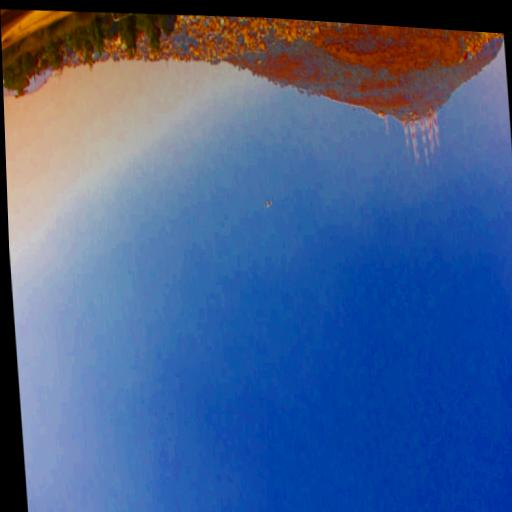drones: (263, 196, 274, 210)
